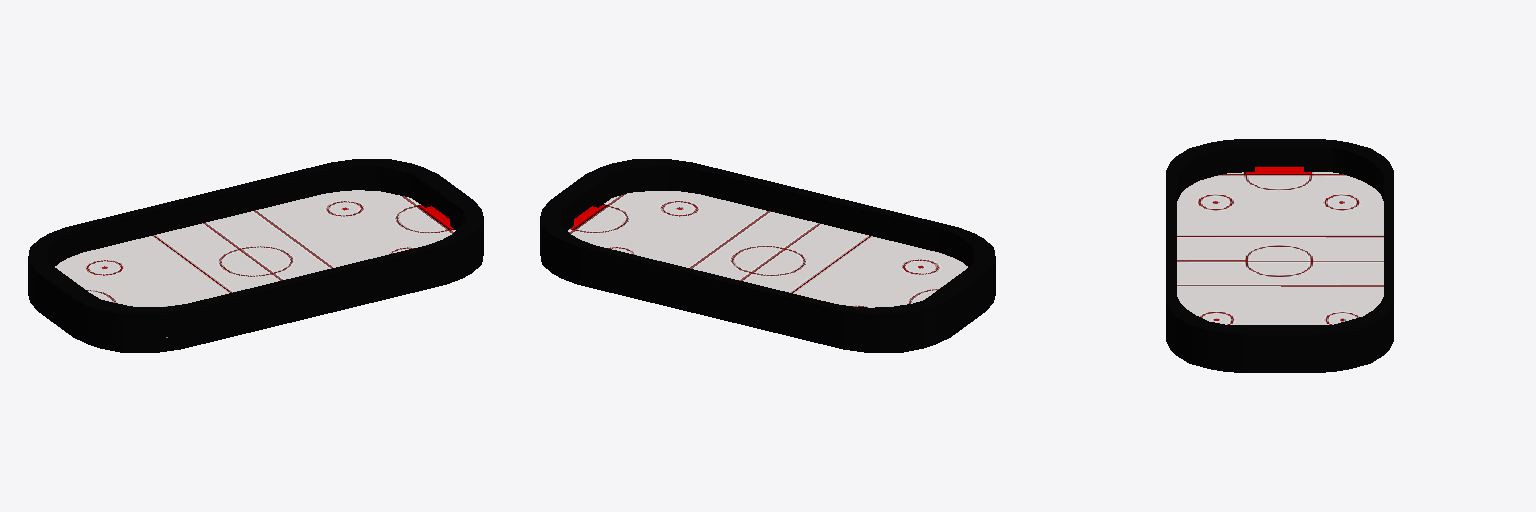
3 renders of one model, left to right at view 1: azimuth 30°, elevation 25°; view 2: azimuth 150°, elevation 25°; view 3: azimuth 270°, elevation 25°, orthographic.
Parts seen in each view (by area): view 1: Cube.000_Cube.007; view 2: Cube.000_Cube.007; view 3: Cube.000_Cube.007.
Boxes of the visible parts, <box> form: Cube.000_Cube.007: <box>28,159,483,352</box>; Cube.000_Cube.007: <box>540,159,995,352</box>; Cube.000_Cube.007: <box>1166,139,1393,372</box>.
Bounding box in the file's own units: 13.56 × 1.25 × 6.69.
Materials: 3 (1 with a texture image).